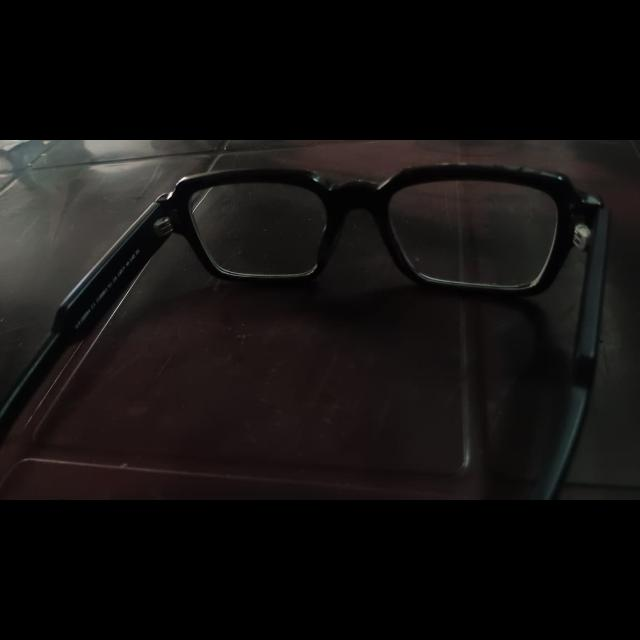glasses: (3, 162, 595, 480)
